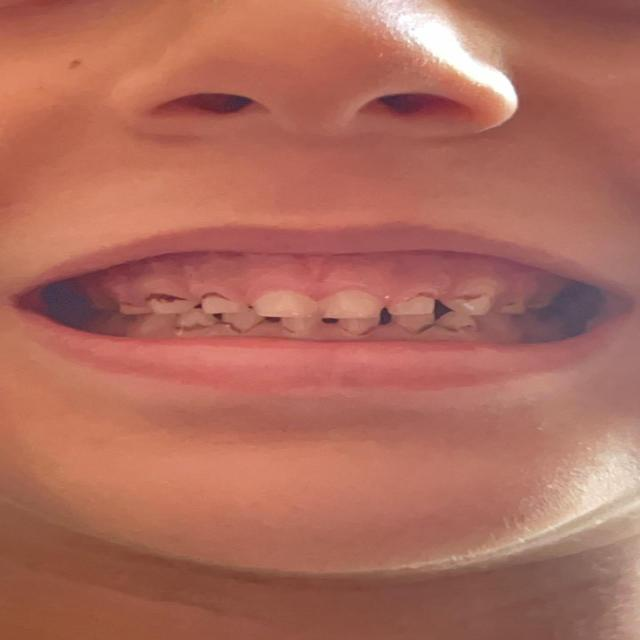tooth: (322, 292, 374, 320), (250, 292, 308, 316), (390, 293, 435, 316), (390, 314, 426, 334), (454, 294, 487, 312), (207, 299, 243, 315), (290, 319, 324, 335), (178, 316, 212, 330), (443, 313, 471, 329), (226, 314, 252, 330), (157, 299, 180, 315), (346, 318, 369, 334)
